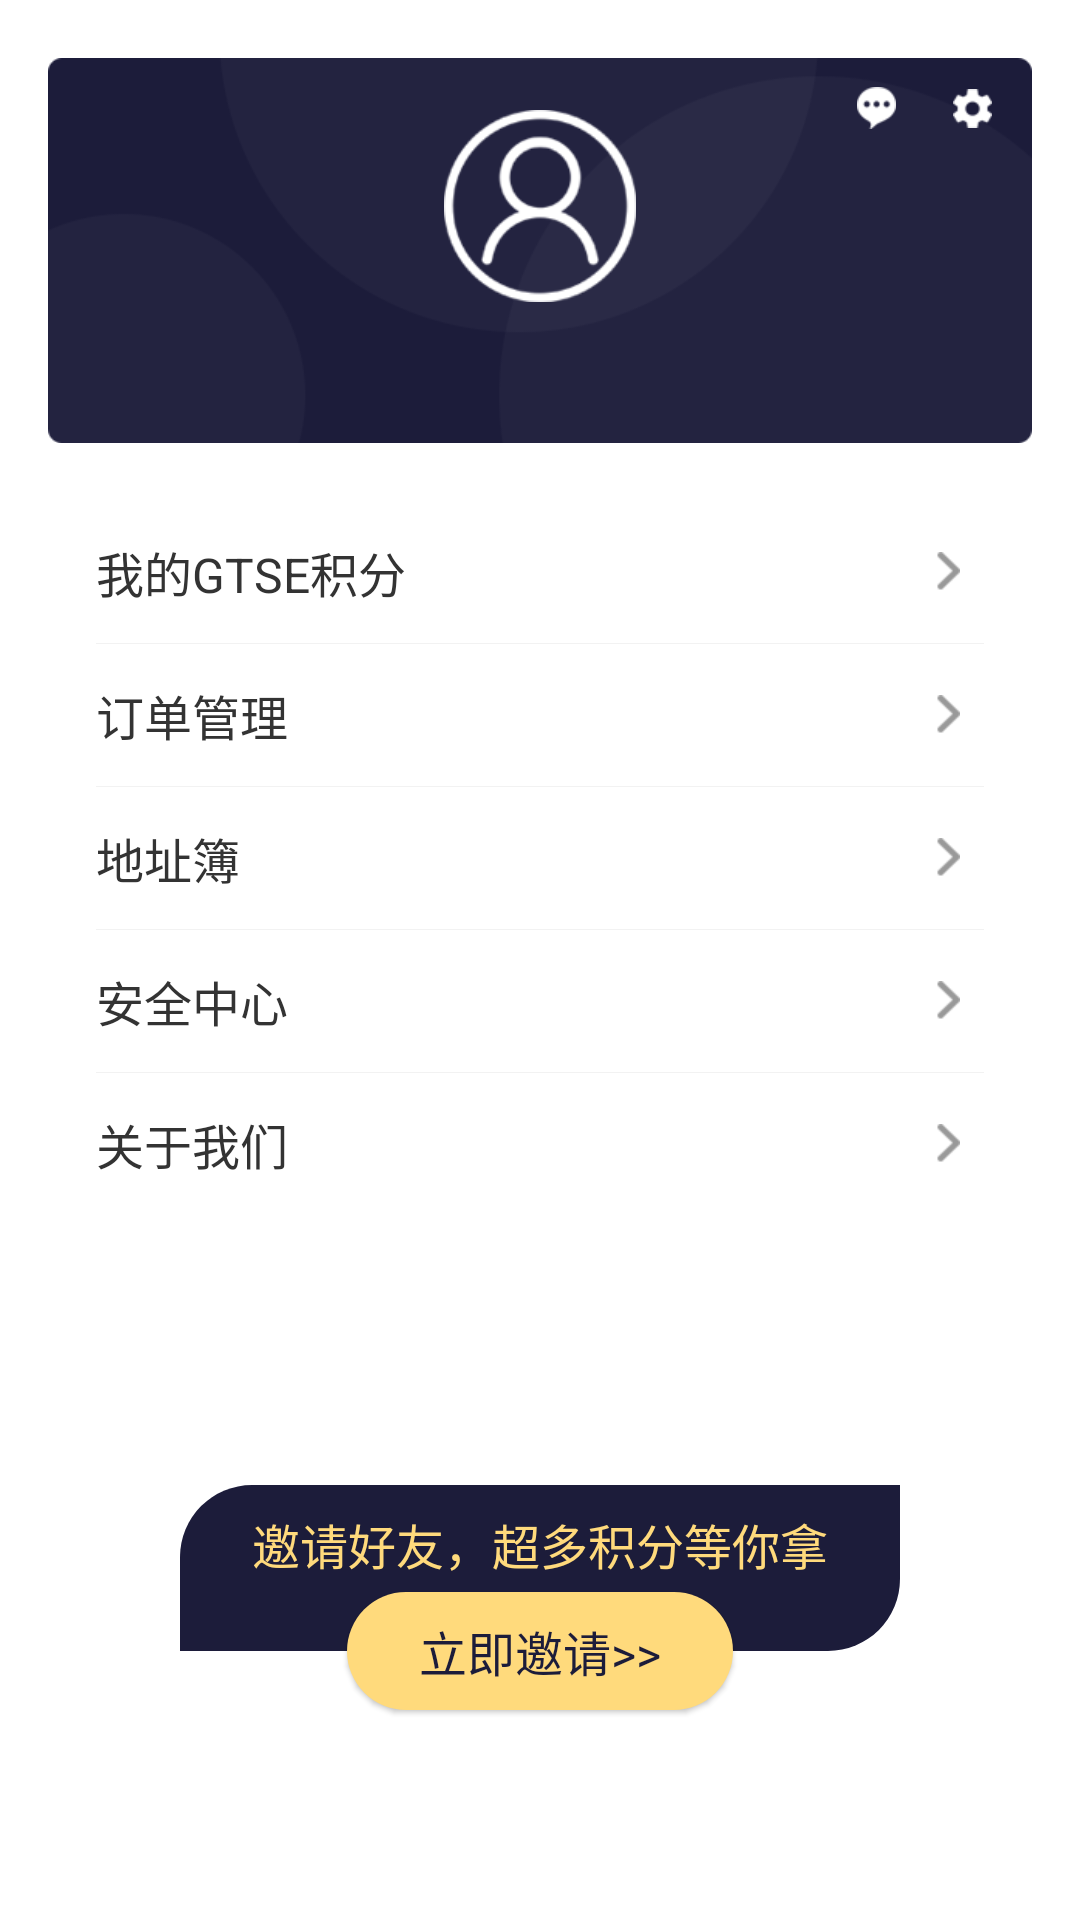

Icons on this 1080 x 1920 Android screen, each with its box as [left=x1, top=y1, right=x2, bottom=y2]:
message: [left=857, top=87, right=896, bottom=129]
setting: [left=953, top=89, right=992, bottom=128]
